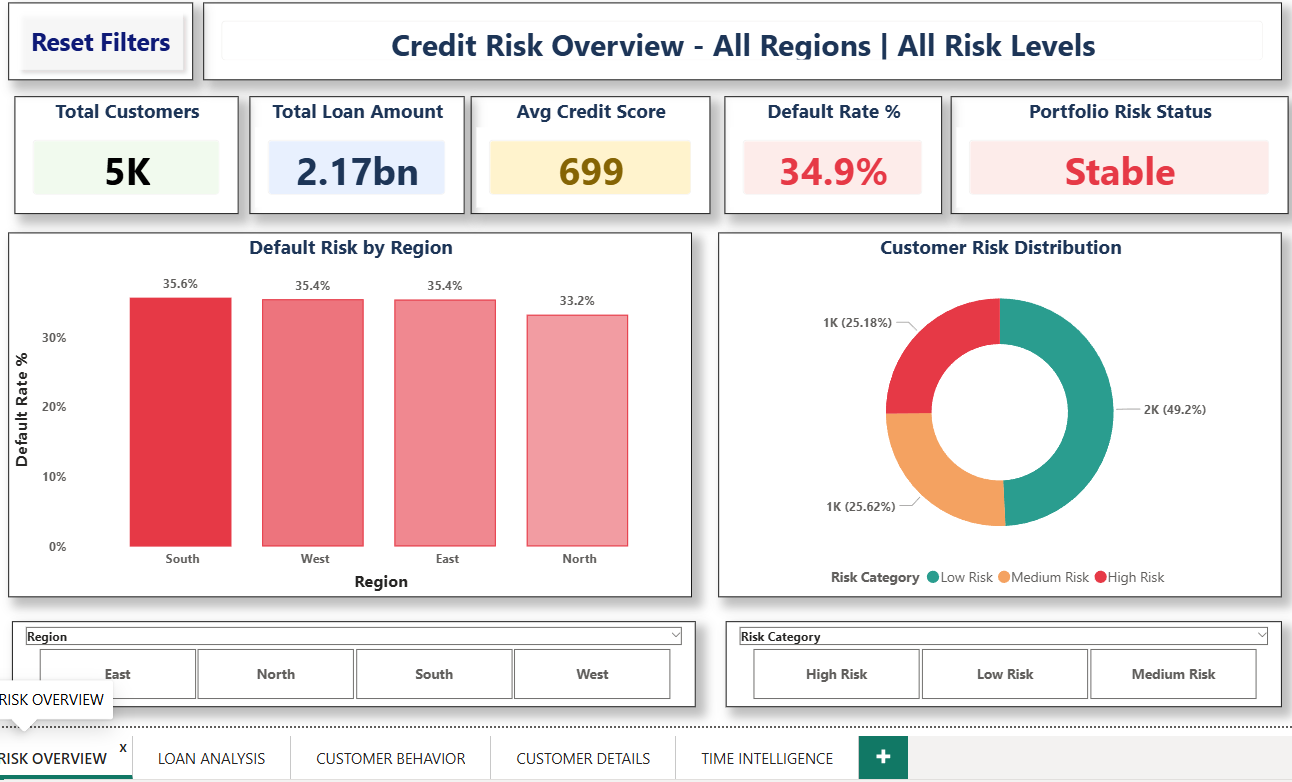

Layout of this report page (visuals, bound fields, positions):
{"tool":"powerbi","page":{"name":"CREDIT RISK OVERVIEW","canvas":[1280,720],"ordinal":0},"visuals":[{"type":"cardVisual","title":"Total Customers","fields":{"Data":["Measure.Total Customers"]},"box":[17.2,103.9,219.3,115.4],"z":0,"group":"g1"},{"type":"clusteredColumnChart","title":"Default Risk by Region","fields":{"Category":["customer_credit_data.region"],"Y":["Measure.Default Rate %"]},"box":[11,237.2,668.9,357.1],"z":0},{"type":"slicer","fields":{"Values":["customer_credit_data.region"]},"box":[14.4,617.5,668.9,84.4],"z":0,"group":"g2"},{"type":"cardVisual","title":"Total Loan Amount","fields":{"Data":["Measure.Total Loan"]},"box":[246.6,104,210.3,114.9],"z":1000,"group":"g1"},{"type":"donutChart","title":"Customer Risk Distribution","fields":{"Category":["customer_credit_data.risk_category"],"Y":["Measure.Total Customers"]},"box":[705.6,237.2,551.5,357.1],"z":1000},{"type":"slicer","fields":{"Values":["customer_credit_data.risk_category"]},"box":[712.6,617.5,544.2,84.4],"z":1000,"group":"g2"},{"type":"cardVisual","fields":{"Data":["Measure.Dynamic Title"]},"box":[201.8,12.2,1055.3,75.8],"z":2000},{"type":"cardVisual","title":"Avg Credit Score","fields":{"Data":["Measure.Avg Credit Score"]},"box":[464,104,234,115],"z":2000,"group":"g1"},{"type":"actionButton","box":[11,12.2,181,75.8],"z":3000},{"type":"cardVisual","title":"Default Rate %","fields":{"Data":["Measure.Default Rate %"]},"box":[711.2,104,212.8,114.9],"z":3000,"group":"g1"},{"type":"group","id":"g1","title":"Group 1","box":[17.2,103.9,1245.5,115.4],"z":4000},{"type":"cardVisual","title":"Portfolio Risk Status","fields":{"Data":["Measure.Risk Flag"]},"box":[932.6,104,330.2,114.9],"z":4000,"group":"g1"},{"type":"group","id":"g2","title":"Group 2","box":[14.4,617.5,1242.2,83.7],"z":5000}]}

Visuals, with their boxes on the page's 1280x720 design canvas (x1, y1, x2, y2). These are canvas units, not pixel positions in the 1292x782 screenshot, which may show the page scaled, cropped or inside an application window:
"Total Customers" cardVisual: [x1=17, y1=104, x2=236, y2=219]
"Default Risk by Region" clusteredColumnChart: [x1=11, y1=237, x2=680, y2=594]
slicer - customer_credit_data.region: [x1=14, y1=618, x2=683, y2=702]
"Total Loan Amount" cardVisual: [x1=247, y1=104, x2=457, y2=219]
"Customer Risk Distribution" donutChart: [x1=706, y1=237, x2=1257, y2=594]
slicer - customer_credit_data.risk_category: [x1=713, y1=618, x2=1257, y2=702]
cardVisual - Measure.Dynamic Title: [x1=202, y1=12, x2=1257, y2=88]
"Avg Credit Score" cardVisual: [x1=464, y1=104, x2=698, y2=219]
actionButton: [x1=11, y1=12, x2=192, y2=88]
"Default Rate %" cardVisual: [x1=711, y1=104, x2=924, y2=219]
"Group 1" group: [x1=17, y1=104, x2=1263, y2=219]
"Portfolio Risk Status" cardVisual: [x1=933, y1=104, x2=1263, y2=219]
"Group 2" group: [x1=14, y1=618, x2=1257, y2=701]
